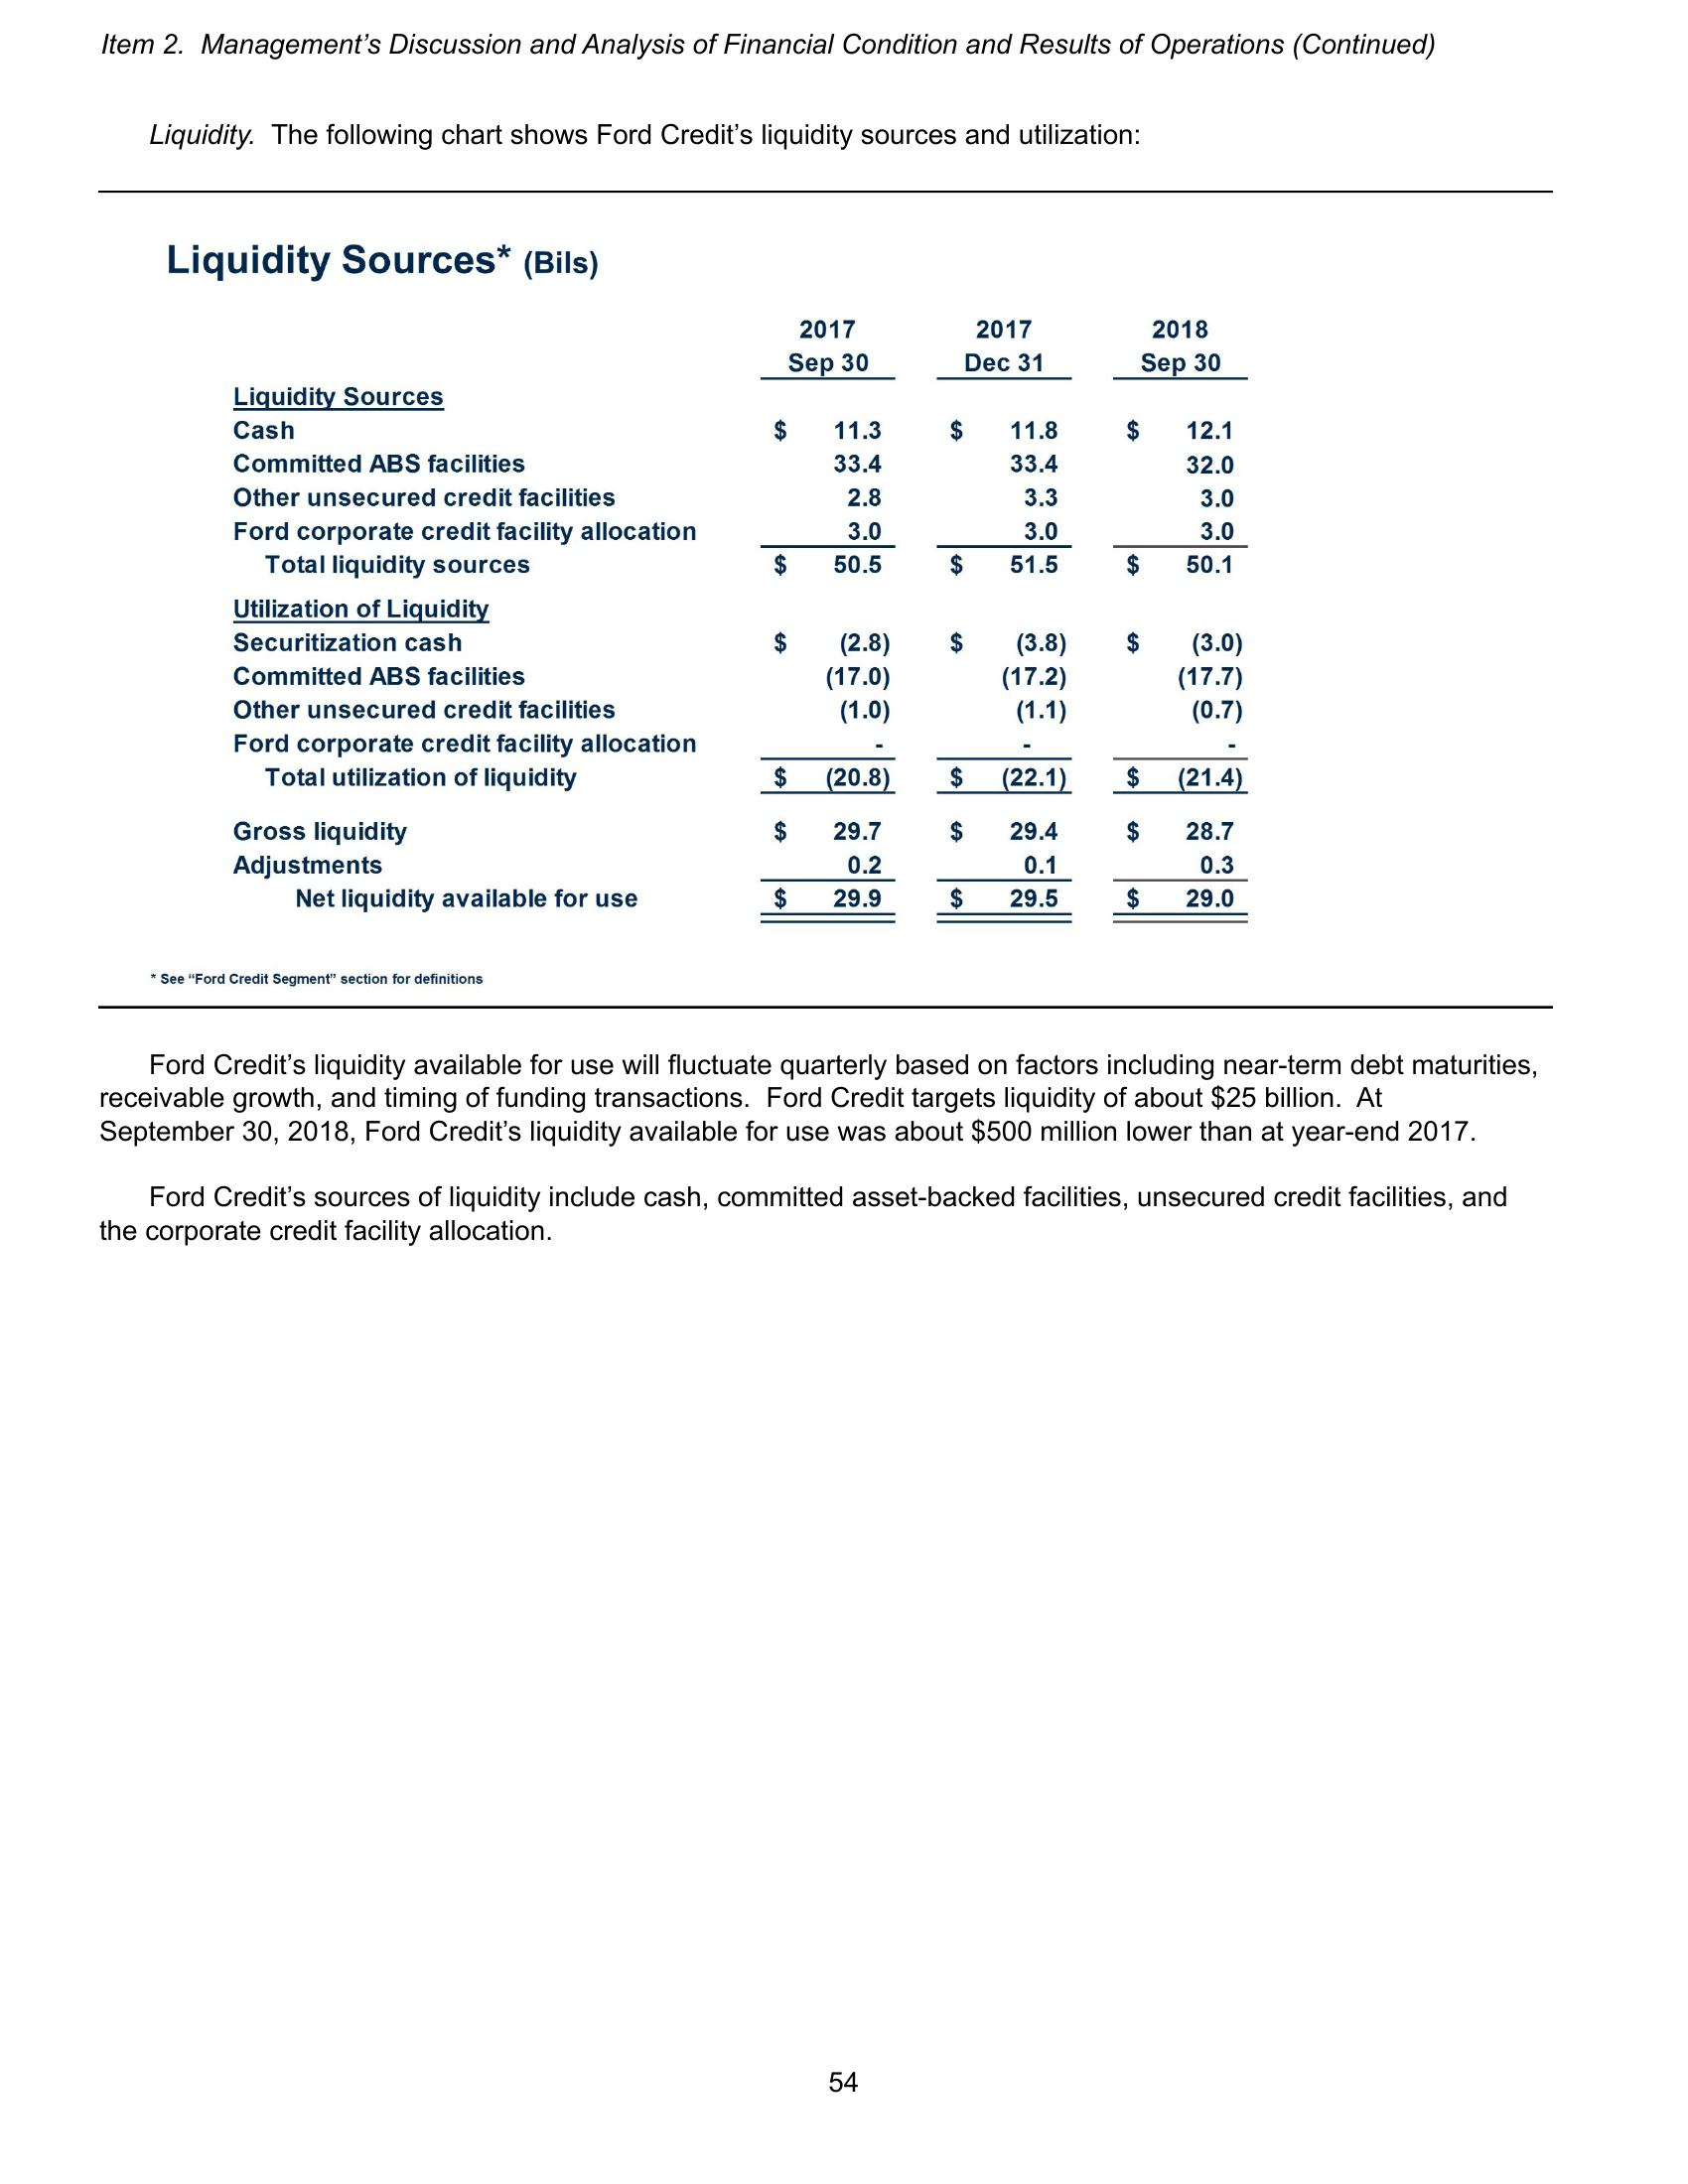table: (227, 310, 1254, 929)
